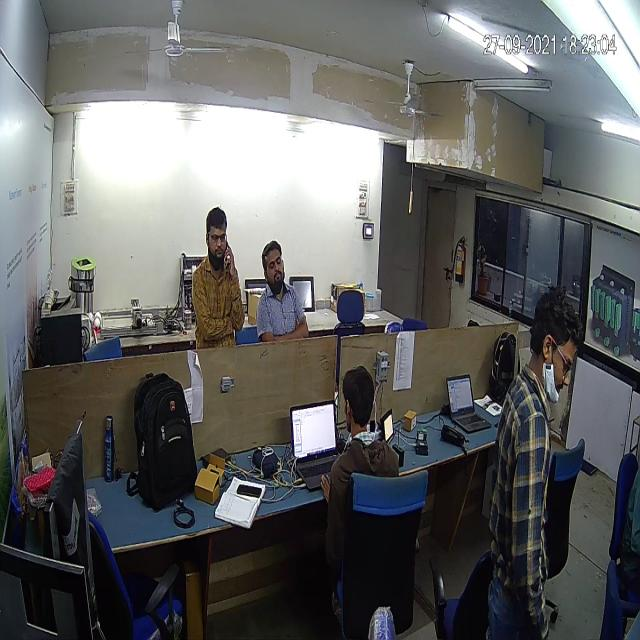adult: (486, 276, 584, 640), (312, 358, 418, 596), (186, 196, 248, 364), (255, 228, 313, 353)
